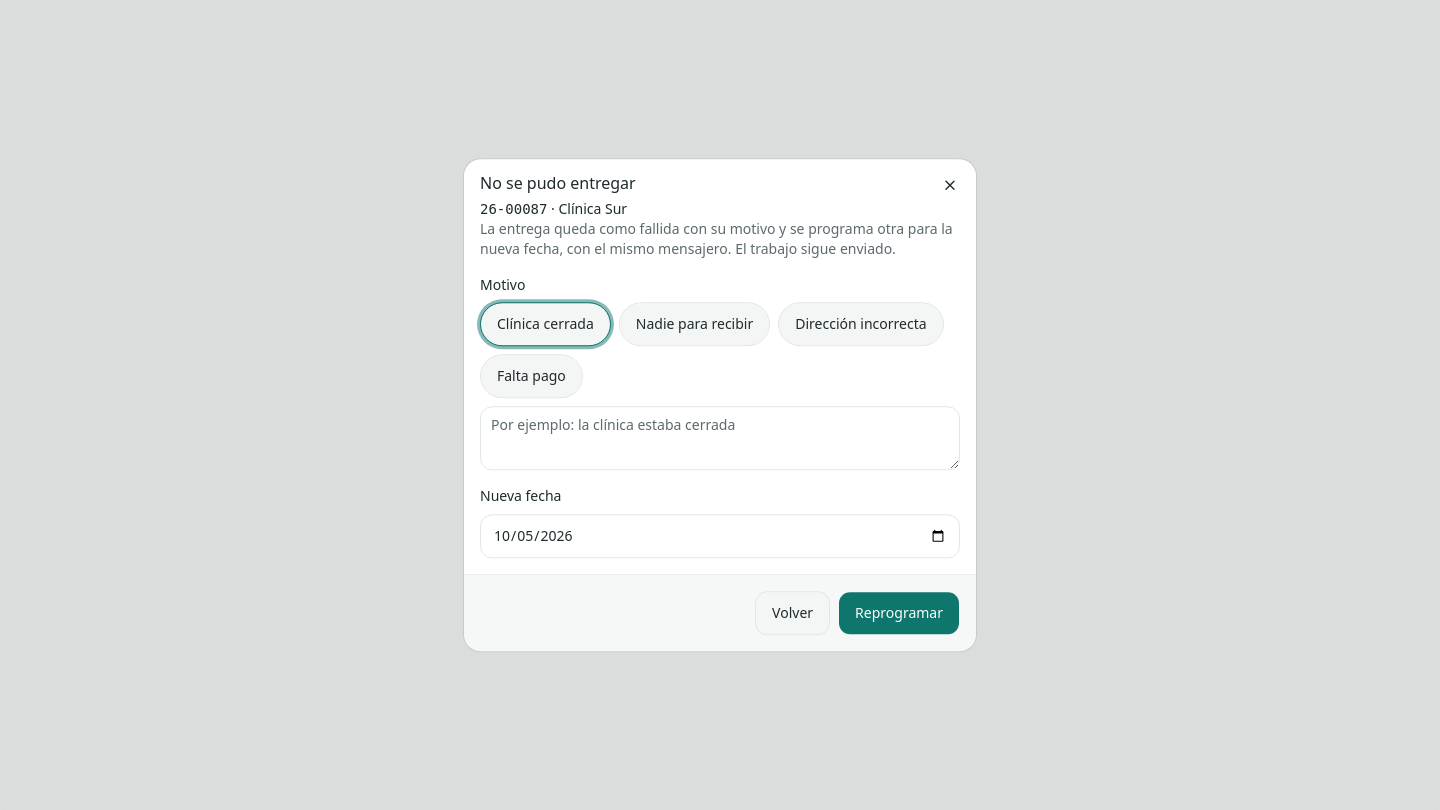
Scenario: FailDialog › el motivo es obligatorio: sin él no se envía
Click the button "Reprogramar".
click(899, 613)  # box [838,591,960,635]
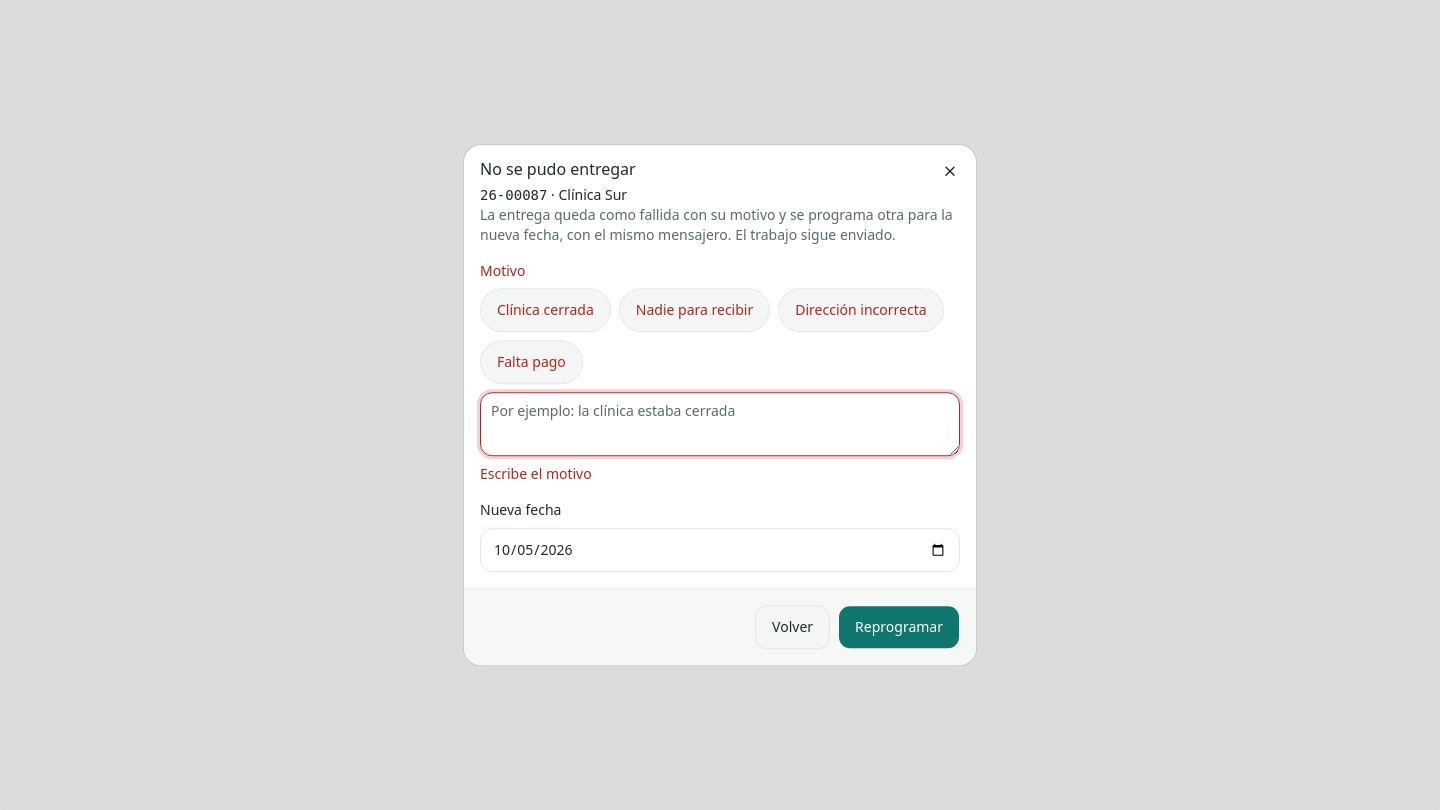
expect the text "Escribe el motivo" is shown: met, box [480,464,592,484]
